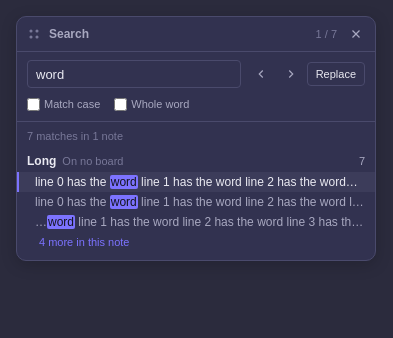
Test: Search panel: the matches, grouped by note, under the box › shows a note's first three matches, and "N more" opens the rest
Click the button with class "more-btn": click(84, 242) [35,235,134,249]
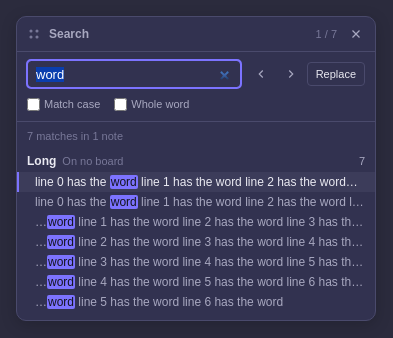
Expected: the button with class "more-btn" is gone
